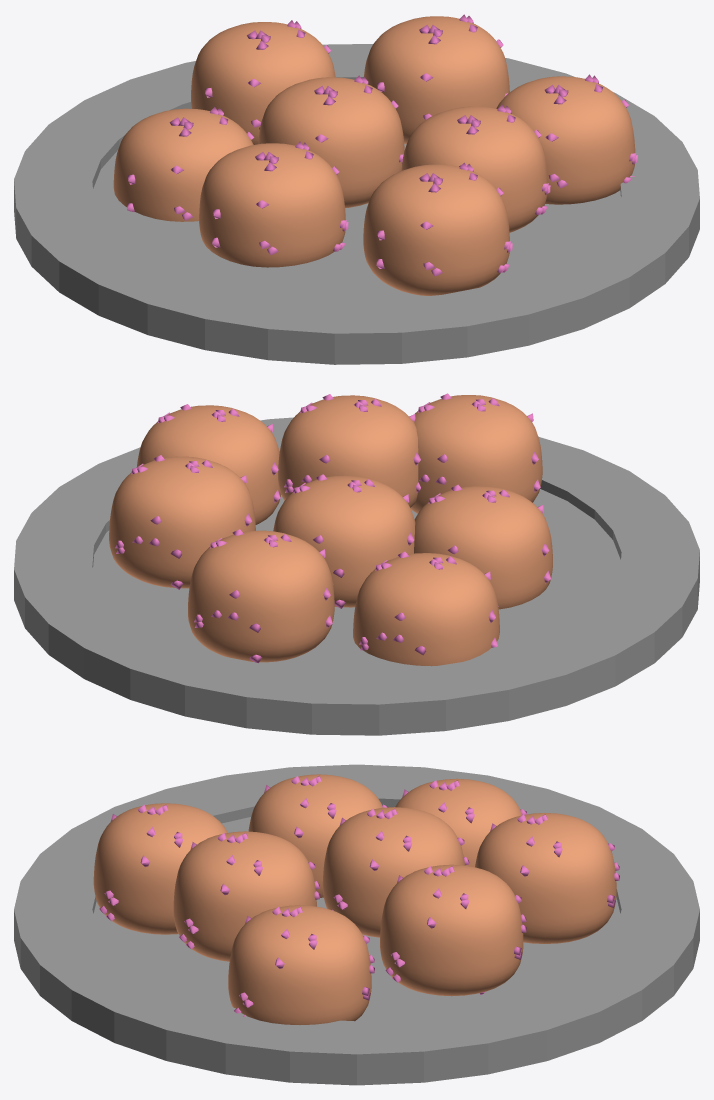
Rendered from breadWithHam-Be-mb0U9.glb.
3 views of the same model, one above another, from view 1: azimuth 30°, elevation 25°; view 2: azimuth 150°, elevation 25°; view 3: azimuth 270°, elevation 25° (orthographic).
Visible parts, largest first — view 1: Cylinder, bread3, bread4, bread6, bread7, bread2, bread.001, bread, bread8; view 2: Cylinder, bread, bread6, bread.001, bread4, bread3, bread8, bread2, bread7; view 3: Cylinder, bread6, bread7, bread, bread8, bread3, bread2, bread4, bread.001.
Boxes of the visible parts, x1=… form: Cylinder: x1=14, y1=44, x2=699, y2=364; bread3: x1=363, y1=162, x2=512, y2=295; bread4: x1=199, y1=141, x2=348, y2=267; bread6: x1=364, y1=14, x2=509, y2=144; bread7: x1=496, y1=74, x2=637, y2=204; bread2: x1=258, y1=75, x2=404, y2=208; bread.001: x1=113, y1=107, x2=254, y2=221; bread: x1=191, y1=20, x2=335, y2=144; bread8: x1=401, y1=104, x2=550, y2=232; Cylinder: x1=14, y1=416, x2=699, y2=735; bread: x1=188, y1=529, x2=334, y2=662; bread6: x1=109, y1=455, x2=255, y2=589; bread.001: x1=353, y1=551, x2=499, y2=666; bread4: x1=414, y1=484, x2=552, y2=609; bread3: x1=410, y1=393, x2=542, y2=513; bread8: x1=278, y1=394, x2=420, y2=507; bread2: x1=273, y1=474, x2=415, y2=608; bread7: x1=136, y1=404, x2=281, y2=524; Cylinder: x1=14, y1=764, x2=699, y2=1085; bread6: x1=380, y1=864, x2=526, y2=996; bread7: x1=228, y1=905, x2=374, y2=1024; bread: x1=475, y1=813, x2=619, y2=943; bread8: x1=173, y1=831, x2=320, y2=961; bread3: x1=93, y1=803, x2=227, y2=934; bread2: x1=322, y1=807, x2=469, y2=937; bread4: x1=248, y1=774, x2=388, y2=897; bread.001: x1=395, y1=778, x2=526, y2=867.
Size of the model in its own units: 1.2 by 0.3072 by 1.2.
